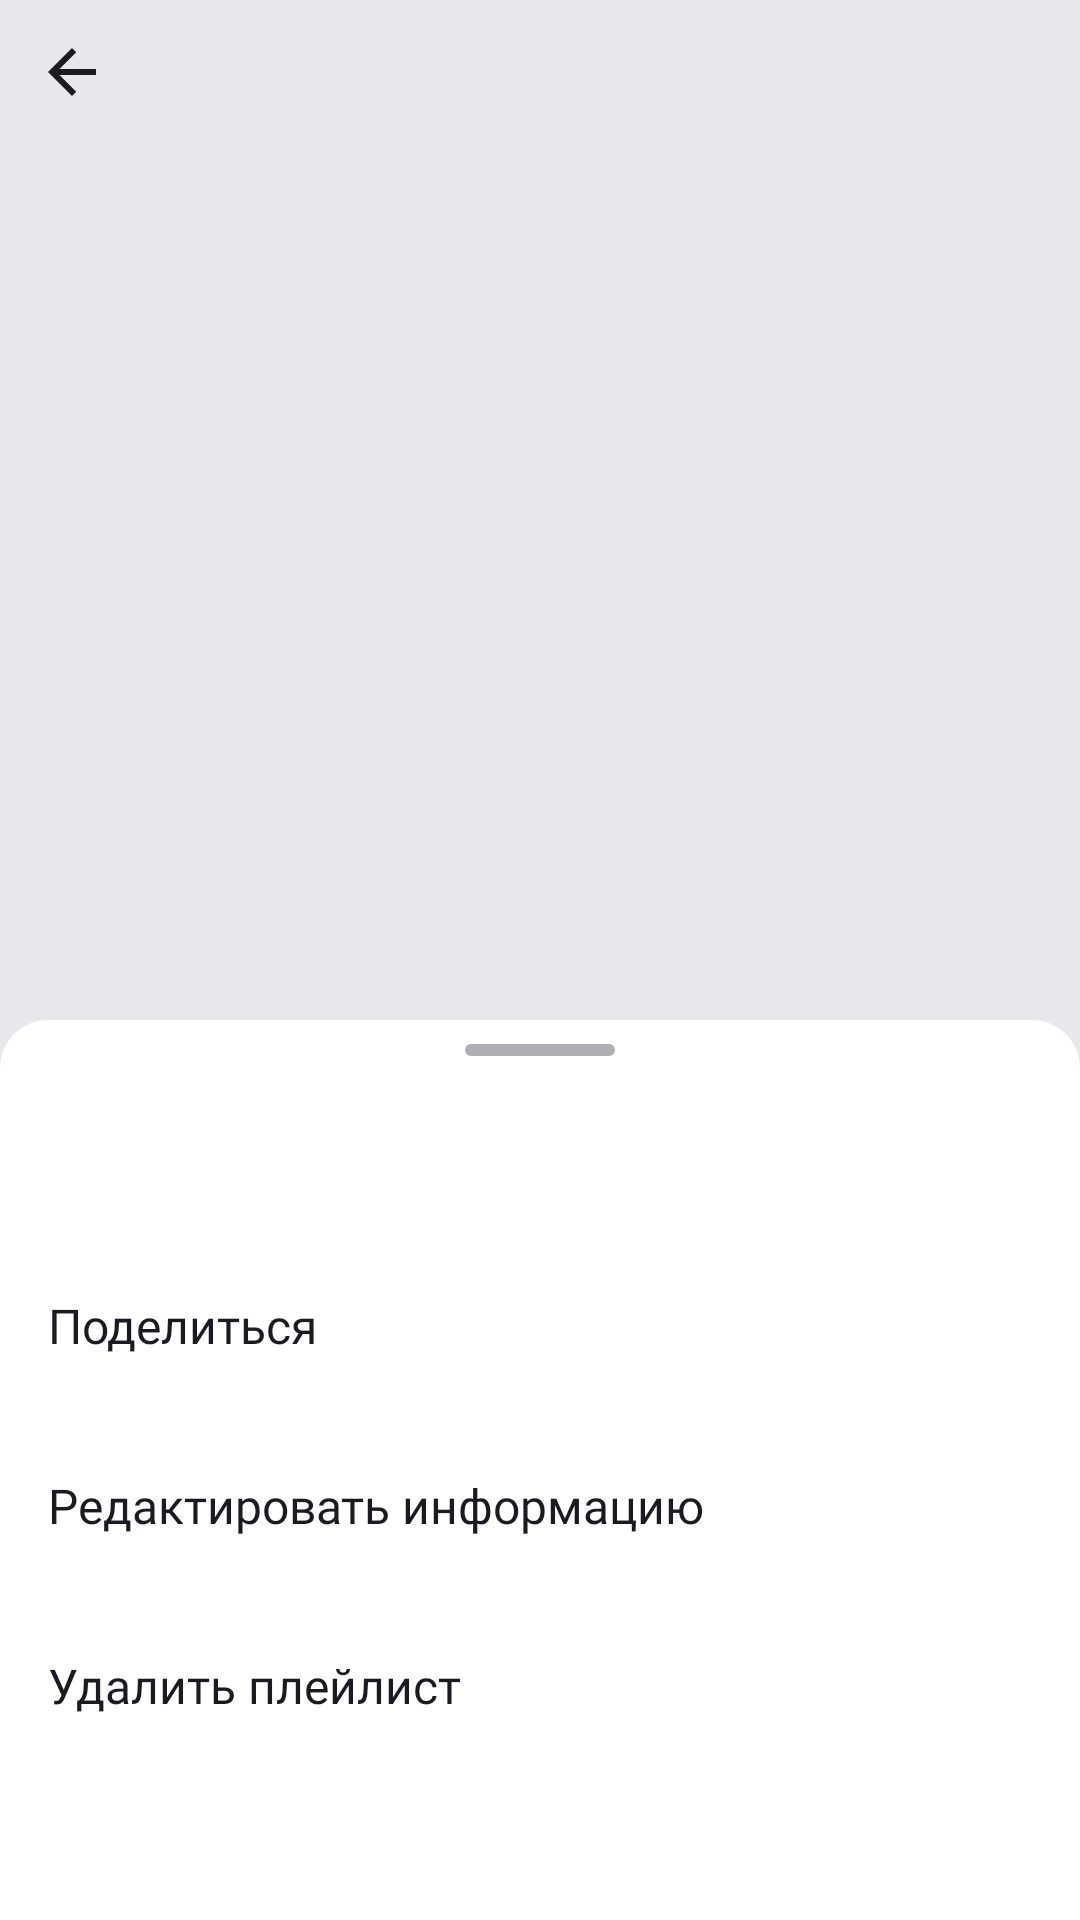

Icon bounding boxes for this 1080*1920 phone screenshot, format (x1, y1, x2, y2):
back: (48, 48, 96, 96)
